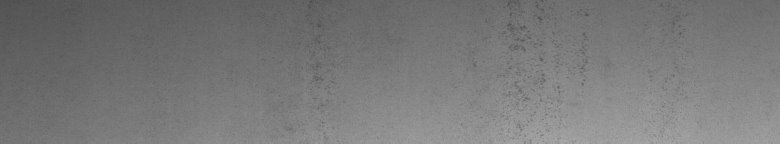ib: (499, 4, 589, 136)
